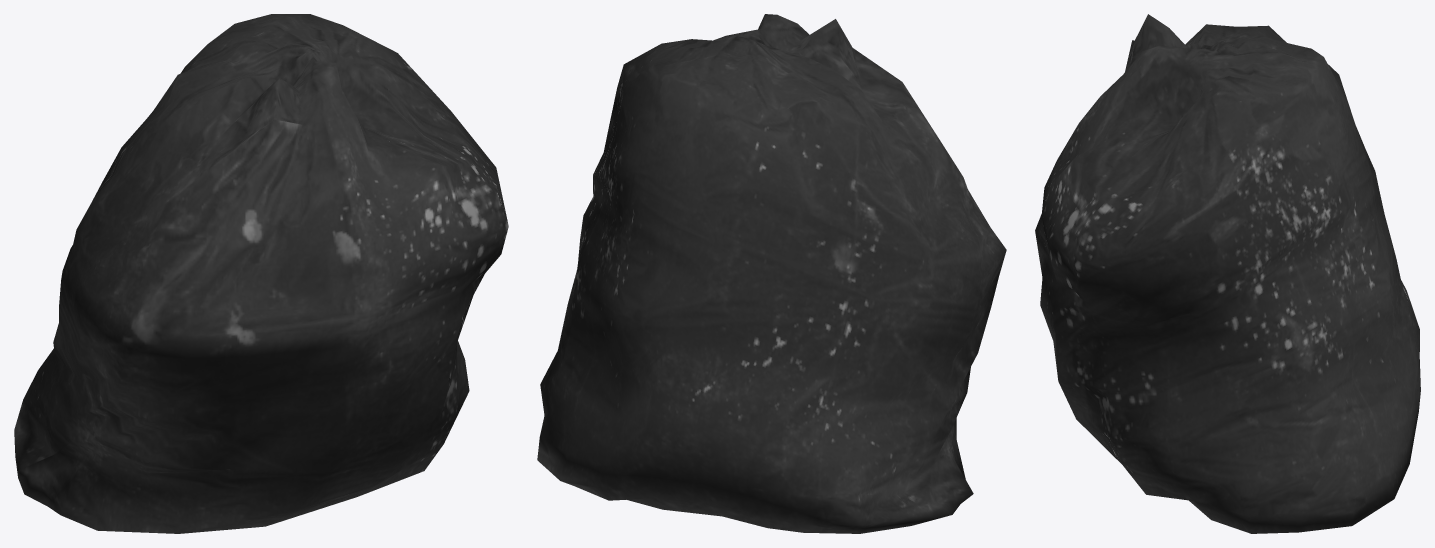
Rendered from trash_bag_3.fbx.
The picture shows the model from 3 angles, left to right: view 1: azimuth 30°, elevation 25°; view 2: azimuth 150°, elevation 25°; view 3: azimuth 270°, elevation 25°; orthographic projection. The views are drawn at different scales.
Visible parts, largest first — view 1: trash_bag_3; view 2: trash_bag_3; view 3: trash_bag_3.
Part boxes in pixels (left/top/right/bottom): trash_bag_3: left=14, top=14, right=508, bottom=533; trash_bag_3: left=537, top=14, right=1006, bottom=533; trash_bag_3: left=1035, top=14, right=1420, bottom=533.
Bounding box in the file's own units: 89.48 × 87.52 × 72.99.
